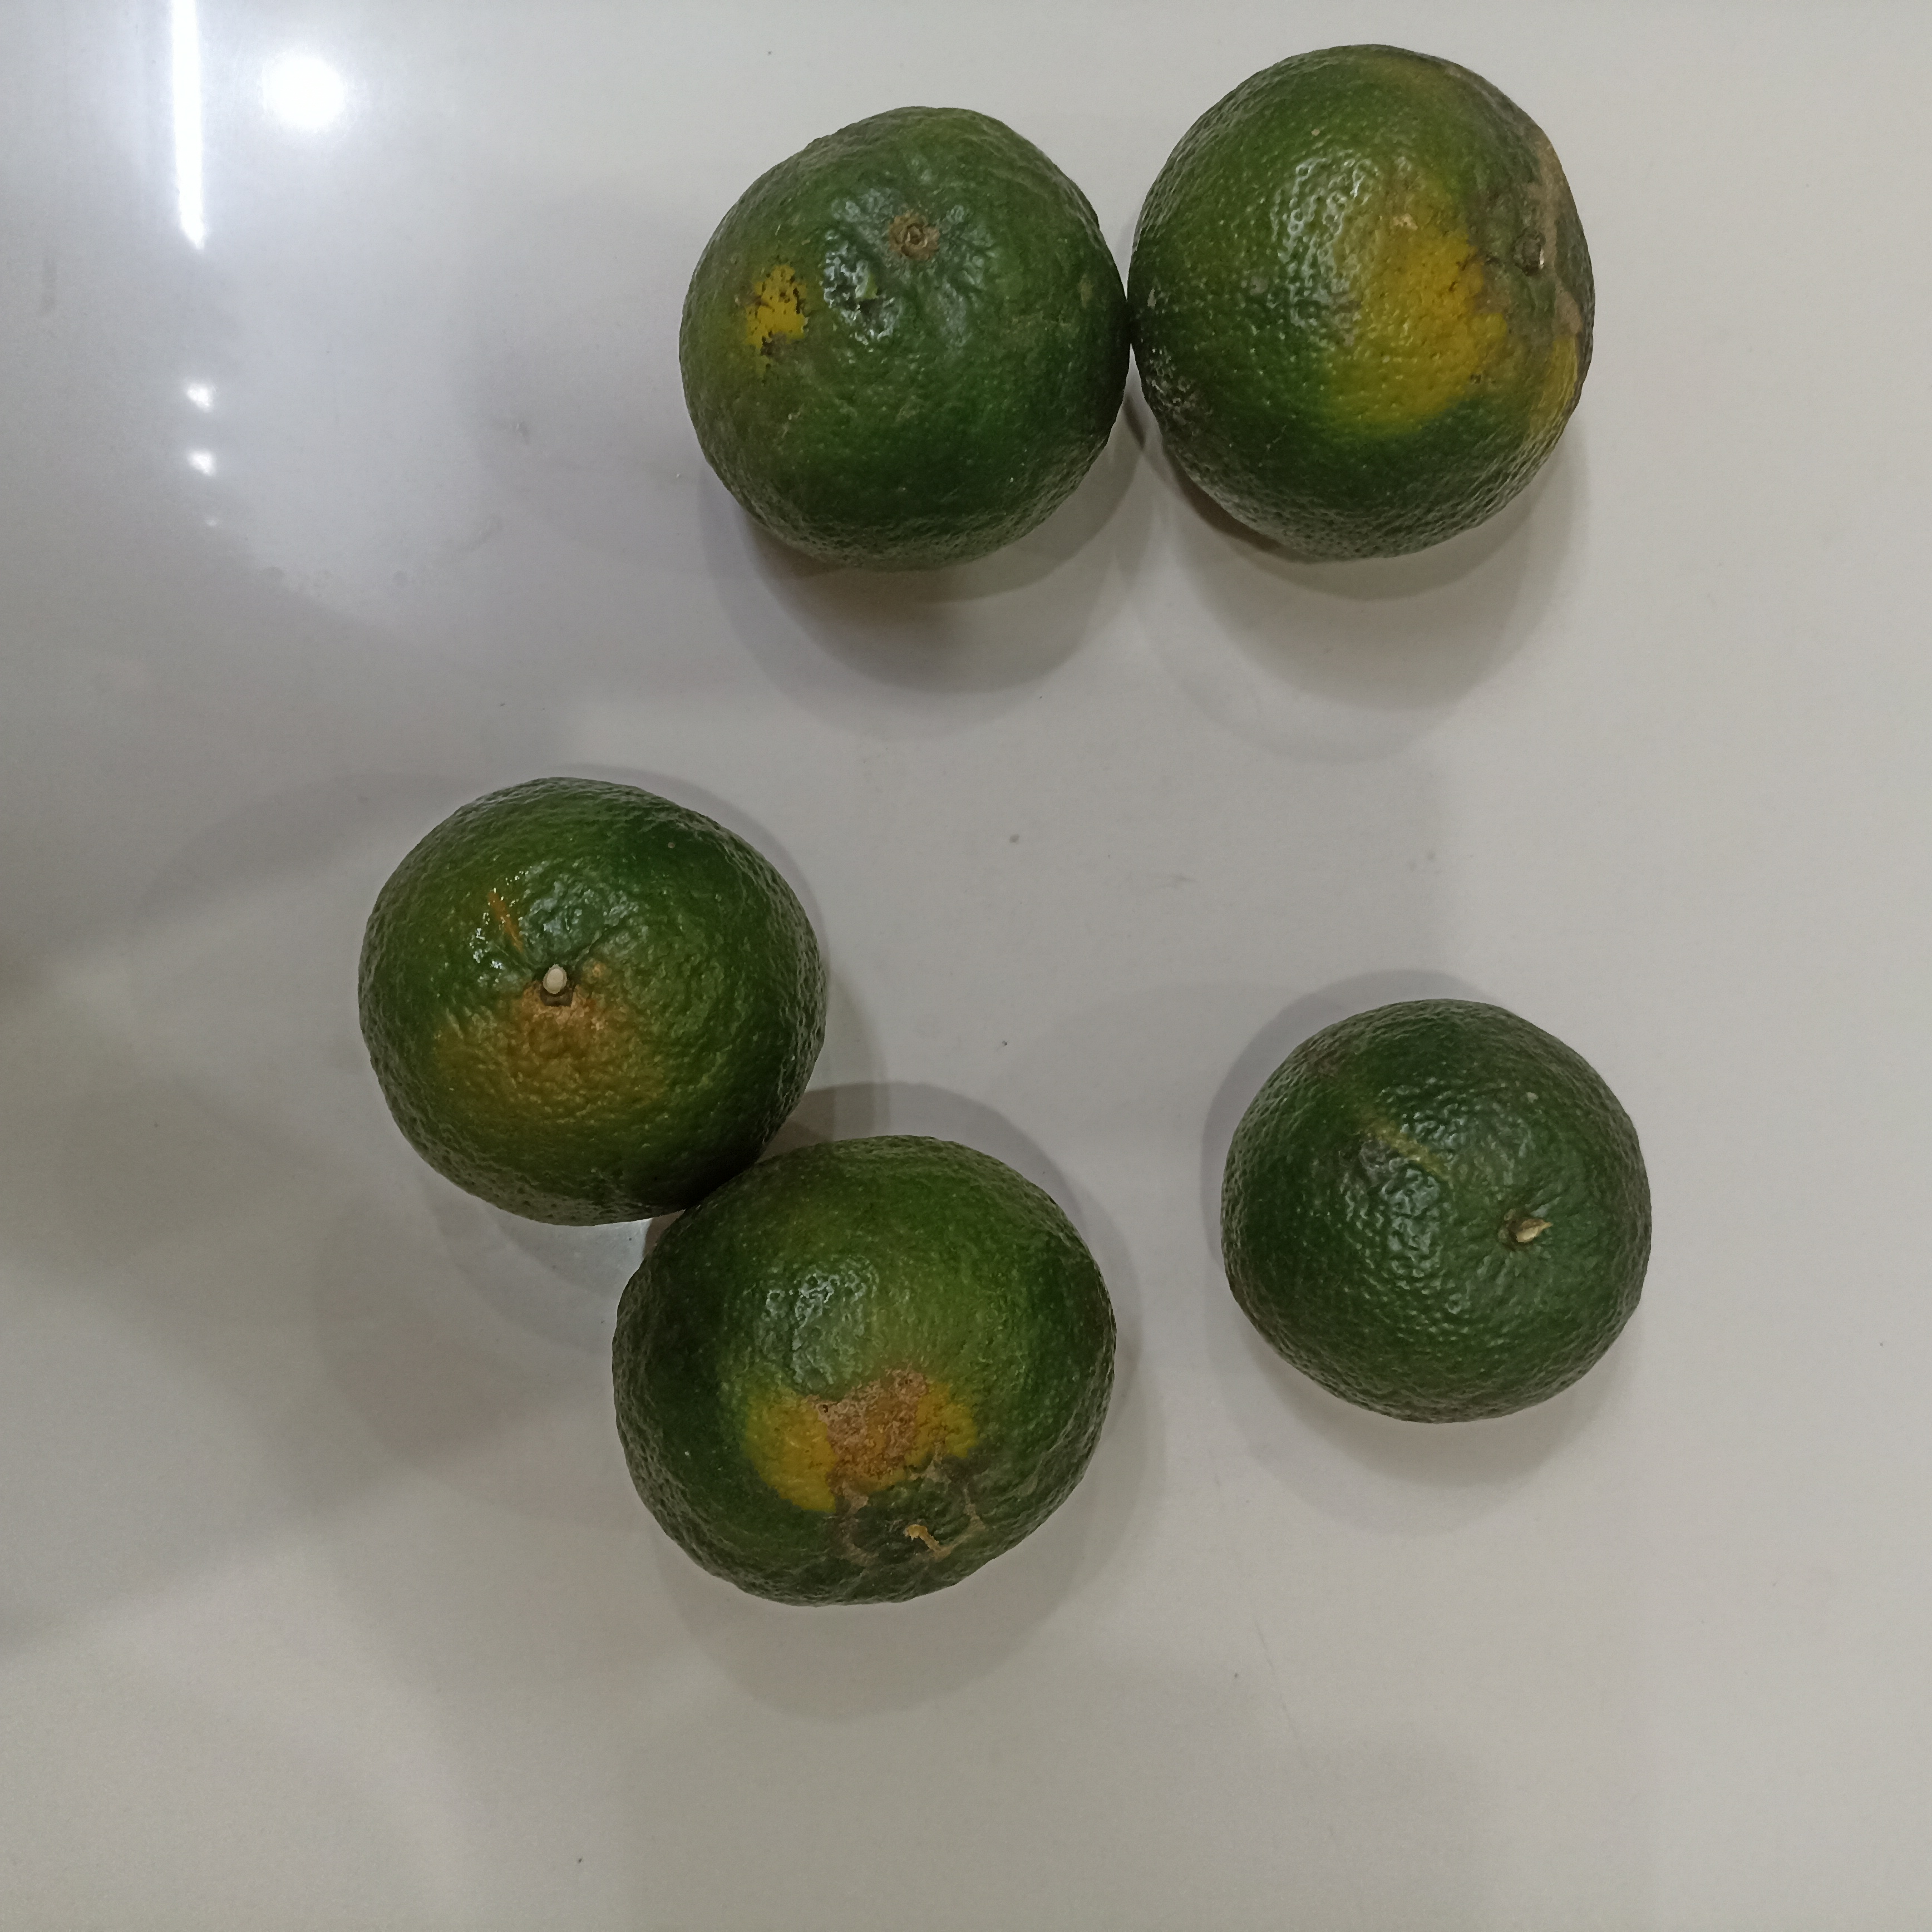Cam: (1123, 41, 1594, 568), (612, 1134, 1116, 1612), (349, 768, 830, 1231), (674, 108, 1129, 579), (1215, 994, 1656, 1437)
